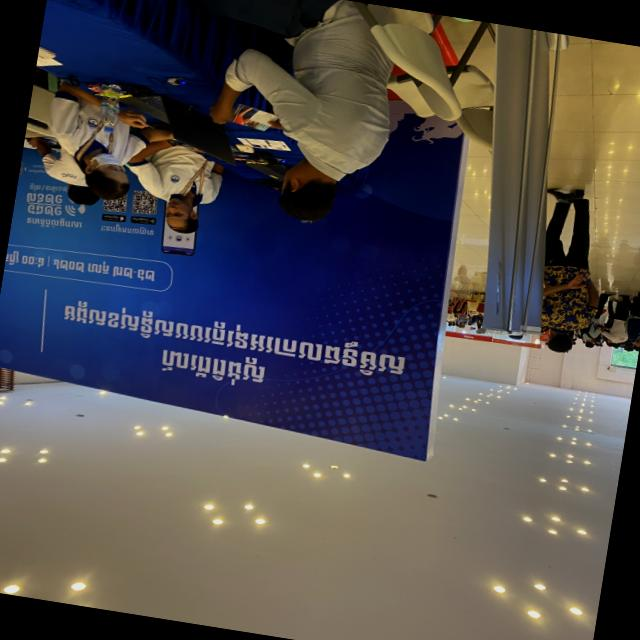4: (18, 250, 163, 285)
Yolov11kh: (58, 295, 410, 381), (159, 345, 271, 391), (97, 223, 159, 238), (25, 216, 83, 232), (25, 191, 64, 207), (27, 182, 71, 195), (27, 203, 64, 217)
